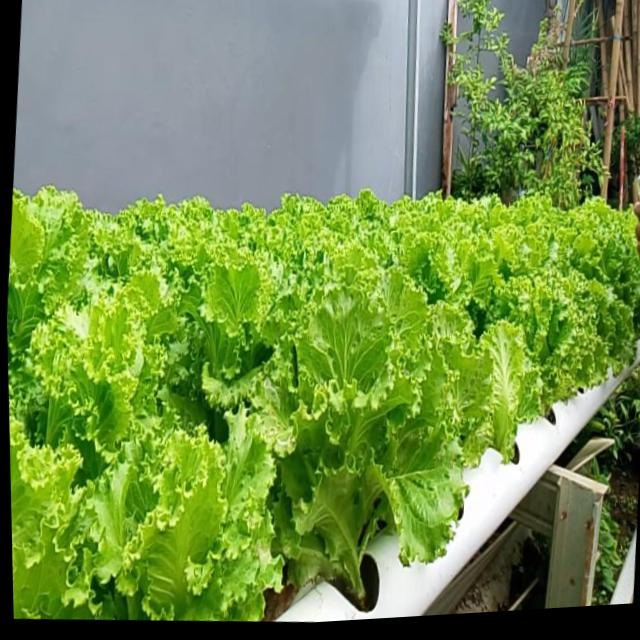Mature: (7, 192, 640, 621), (262, 284, 483, 616), (502, 270, 608, 434)
